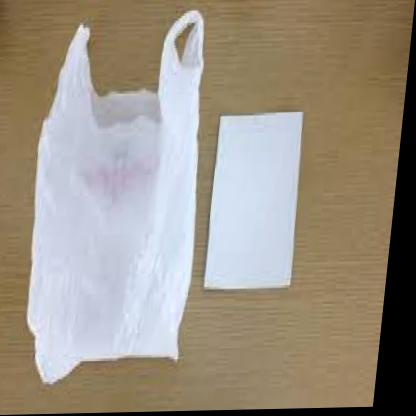Plastic: (2, 17, 222, 386)
